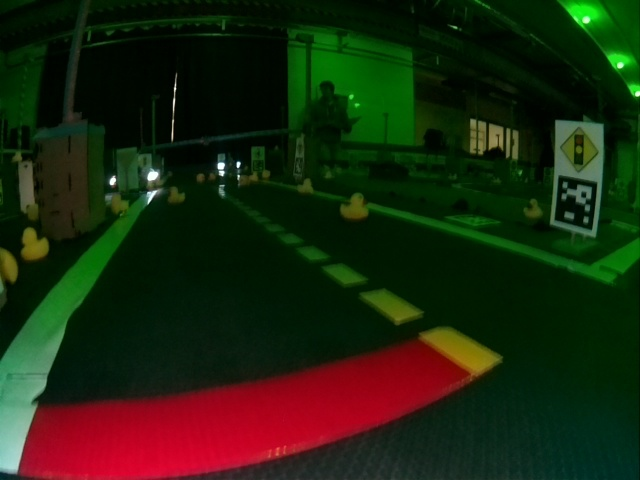Duckie: (22, 228, 50, 259), (340, 193, 369, 219), (523, 198, 543, 218), (110, 196, 129, 215), (167, 186, 185, 203)
QR code: (552, 174, 596, 231)
Signal sign: (560, 125, 601, 173)
